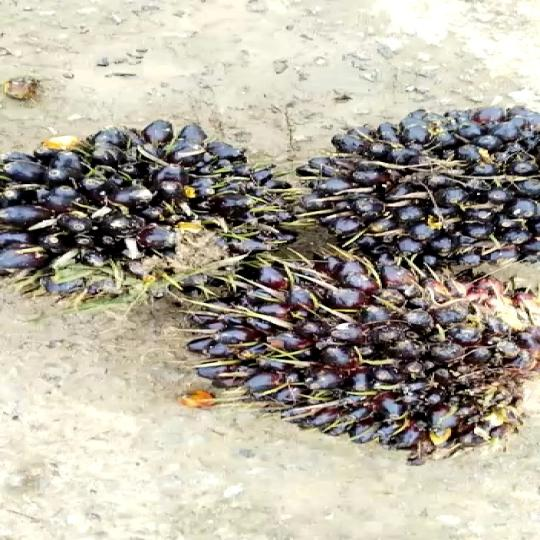mentah: (0, 126, 326, 289), (320, 107, 540, 270)
